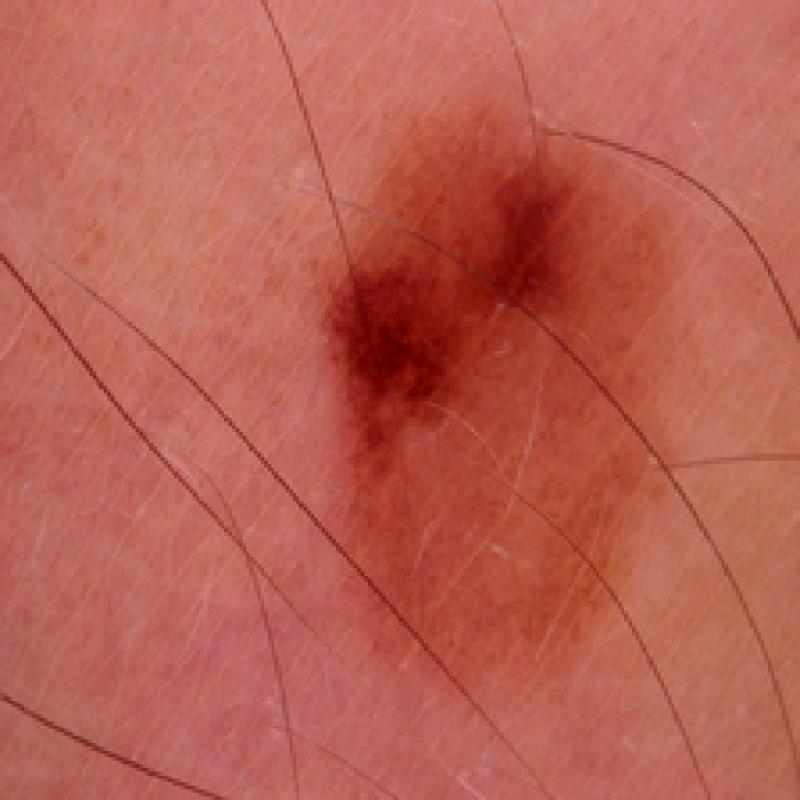benign: (314, 123, 709, 664)
